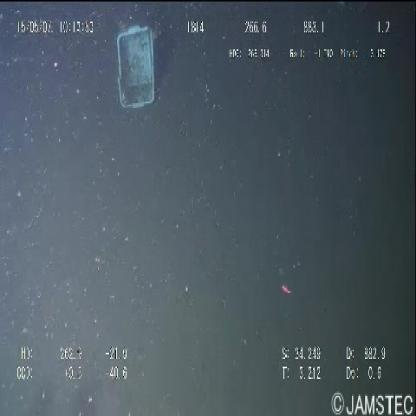Rác: (109, 13, 160, 130)
